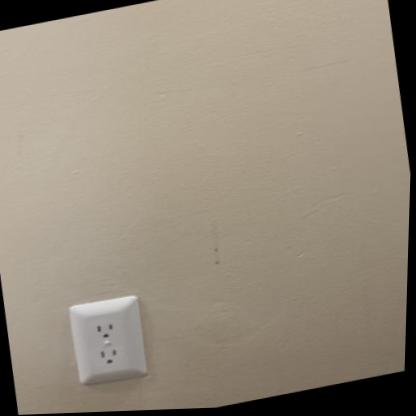OUTLET: (62, 289, 155, 392)
